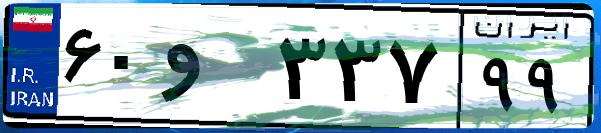0: (110, 28, 158, 98)
3: (270, 28, 330, 110), (330, 28, 385, 110)
6: (57, 26, 110, 100)
7: (385, 28, 445, 110)
9: (475, 38, 525, 113), (525, 38, 570, 115)
و: (158, 20, 270, 120)
